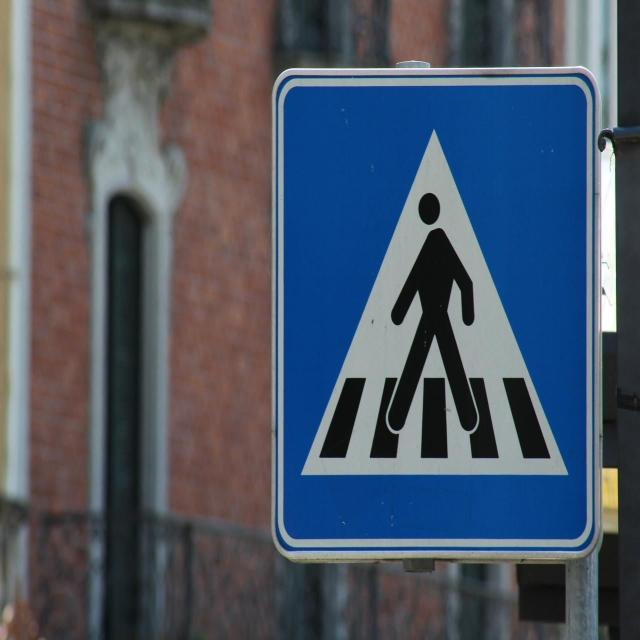Traffic sign: (270, 62, 599, 567)
